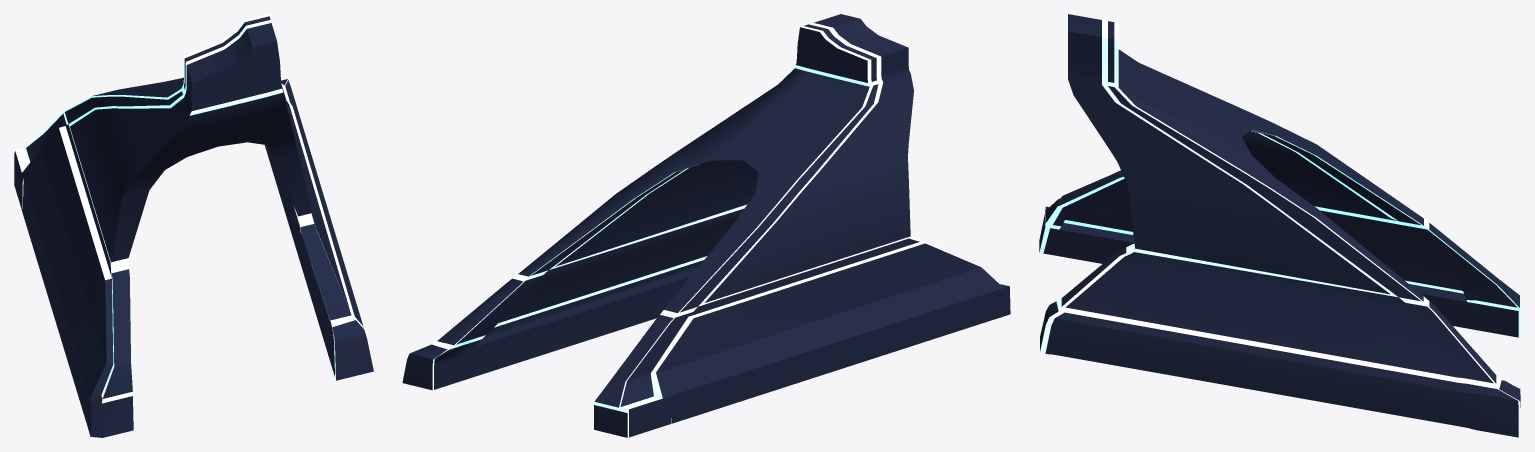
Rendered from Tower_2Ln_Angle_.fbx.
The picture shows the model from 3 angles, left to right: view 1: azimuth 30°, elevation 25°; view 2: azimuth 150°, elevation 25°; view 3: azimuth 270°, elevation 25°; orthographic projection. The views are drawn at different scales.
Visible parts, largest first — view 1: Tower_2Ln_Angle_; view 2: Tower_2Ln_Angle_; view 3: Tower_2Ln_Angle_.
Part boxes in pixels (box(x1,y1,x2,y2)): Tower_2Ln_Angle_: box(14, 14, 373, 437); Tower_2Ln_Angle_: box(402, 14, 1010, 437); Tower_2Ln_Angle_: box(1039, 14, 1520, 437).
Bounding box in the file's own units: 2467 × 1645 × 2487.
